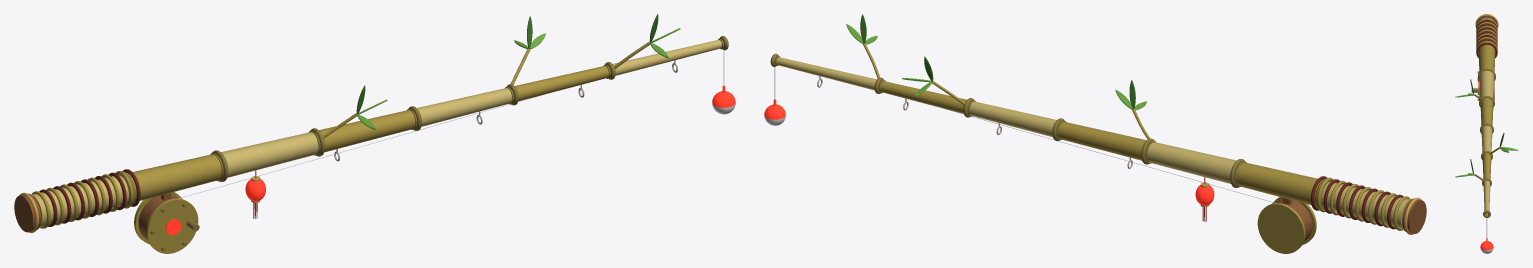
File: ROD_BAMBOO.glb
3 renders of one model, left to right at view 1: azimuth 30°, elevation 25°; view 2: azimuth 150°, elevation 25°; view 3: azimuth 270°, elevation 25°, orthographic. The views are drawn at different scales.
Parts seen in each view (by area): view 1: bamboo_seg_1, bamboo_seg_2, reel_rim_a, bamboo_seg_3, bamboo_seg_4, bamboo_seg_0, bamboo_seg_5, bamboo_seg_6, butt_cap, reel_drum, line; view 2: bamboo_seg_1, bamboo_seg_2, reel_rim_b, bamboo_seg_3, bamboo_seg_4, bamboo_seg_0, bamboo_seg_5, bamboo_seg_6, butt_cap, reel_drum, line; view 3: bamboo_seg_1, bamboo_seg_2, bamboo_seg_3, bamboo_seg_4, bamboo_seg_5, bamboo_seg_6, grip_weave_13, bobber_top, bamboo_node_1, butt_band, butt_cap, bamboo_node_2 (+15 smaller).
Boxes of the visible parts, <box> form: bamboo_seg_1: <box>127,154,223,202</box>; bamboo_seg_2: <box>221,132,320,177</box>; reel_rim_a: <box>146,198,198,253</box>; bamboo_seg_3: <box>319,110,417,152</box>; bamboo_seg_4: <box>417,88,514,126</box>; bamboo_seg_0: <box>32,175,128,227</box>; bamboo_seg_5: <box>515,66,610,101</box>; bamboo_seg_6: <box>613,40,723,75</box>; butt_cap: <box>14,193,41,232</box>; reel_drum: <box>138,195,177,239</box>; line: <box>178,96,538,198</box>; bamboo_seg_1: <box>1234,162,1322,206</box>; bamboo_seg_2: <box>1145,142,1236,183</box>; reel_rim_b: <box>1257,203,1305,253</box>; bamboo_seg_3: <box>1056,121,1146,160</box>; bamboo_seg_4: <box>967,101,1056,137</box>; bamboo_seg_0: <box>1321,181,1410,229</box>; bamboo_seg_5: <box>878,81,966,113</box>; bamboo_seg_6: <box>775,57,877,90</box>; butt_cap: <box>1402,198,1426,233</box>; reel_drum: <box>1277,199,1312,240</box>; line: <box>944,108,1275,203</box>; bamboo_seg_1: <box>1478,44,1495,71</box>; bamboo_seg_2: <box>1479,70,1494,98</box>; bamboo_seg_3: <box>1480,98,1493,125</box>; bamboo_seg_4: <box>1481,125,1492,152</box>; bamboo_seg_5: <box>1482,153,1491,179</box>; bamboo_seg_6: <box>1483,180,1490,215</box>; grip_weave_13: <box>1476,42,1497,58</box>; bobber_top: <box>1480,241,1493,250</box>; bamboo_node_1: <box>1478,68,1495,80</box>; butt_band: <box>1475,14,1498,27</box>; butt_cap: <box>1476,15,1497,25</box>; bamboo_node_2: <box>1479,96,1494,107</box>.
Size of the model in its own units: 1.75 by 0.3045 by 0.2415.
